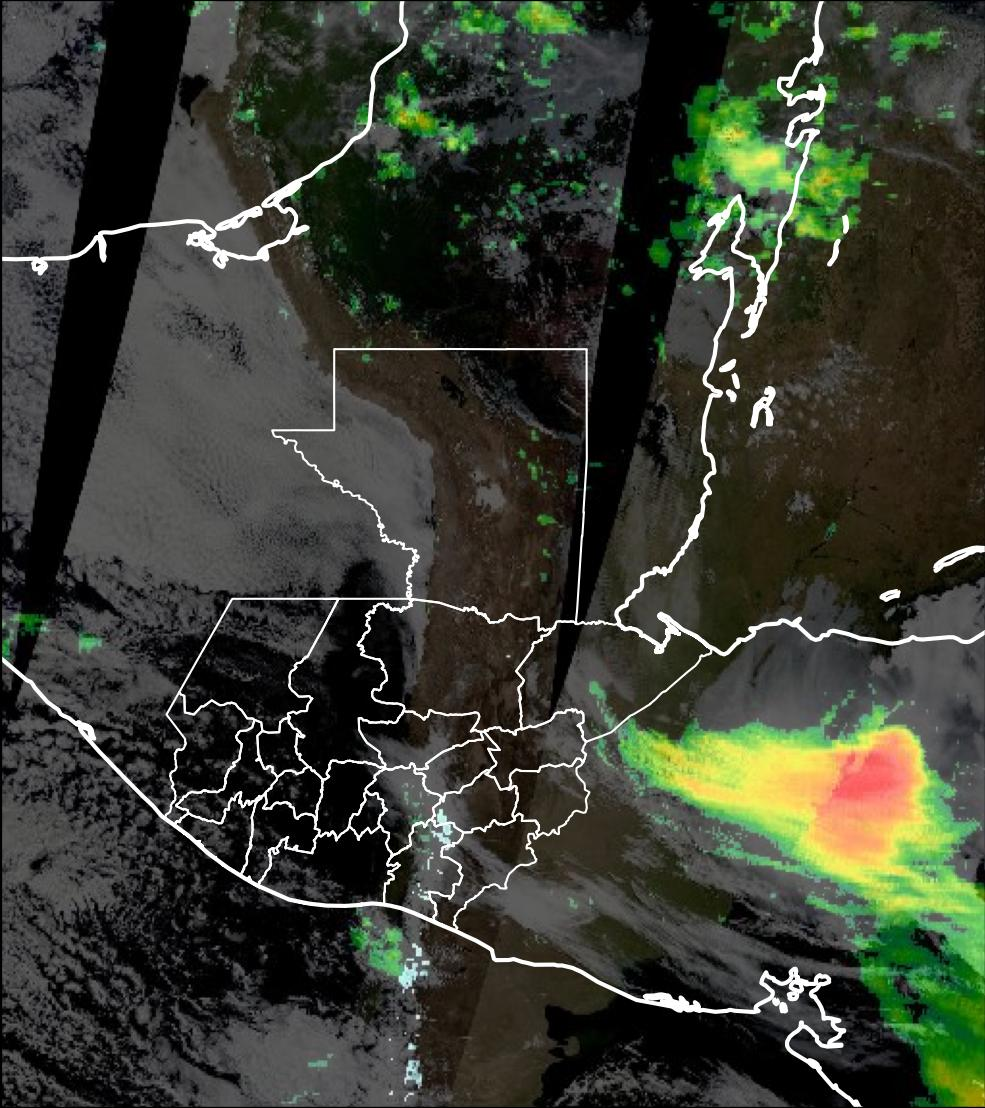precipitacion: (797, 717, 942, 869)
